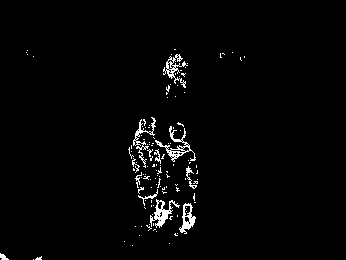person: (158, 121, 202, 242), (128, 110, 163, 218)
